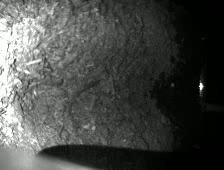corn: (170, 82, 175, 88)
